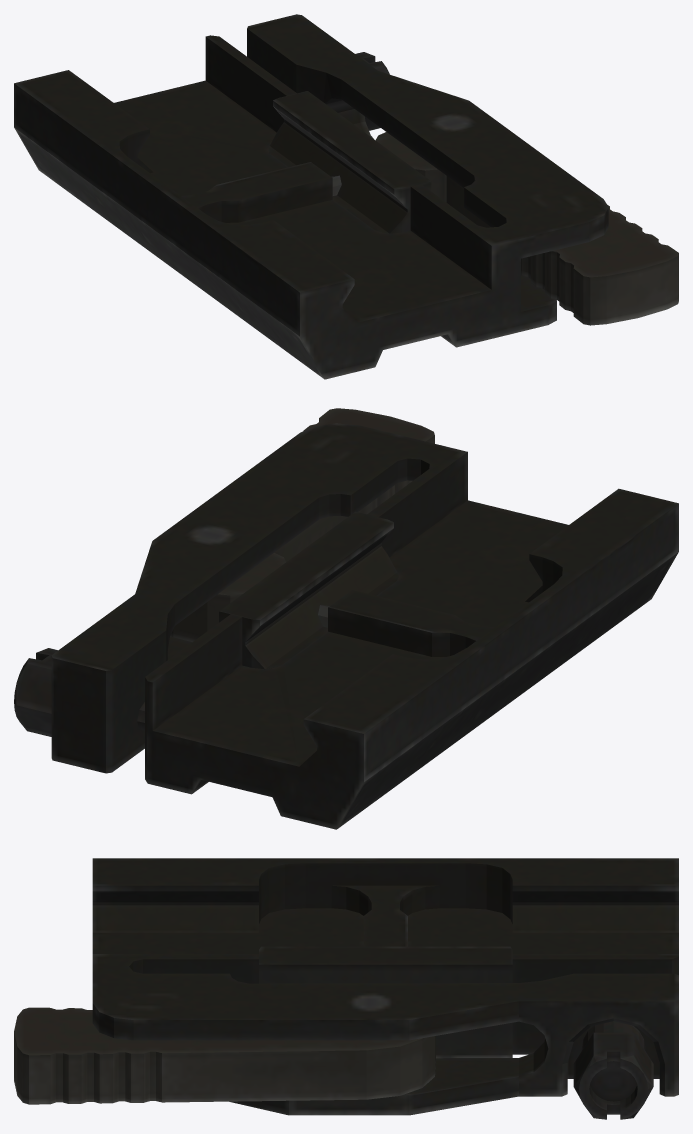
The picture shows the model from 3 angles, top to bottom: view 1: azimuth 30°, elevation 25°; view 2: azimuth 150°, elevation 25°; view 3: azimuth 270°, elevation 25°; orthographic projection. The views are drawn at different scales.
Parts seen in each view (by area): view 1: TW_5c7d55f52e221644f31bff6a_PZ_Import; view 2: TW_5c7d55f52e221644f31bff6a_PZ_Import; view 3: TW_5c7d55f52e221644f31bff6a_PZ_Import.
Part boxes in pixels (x1,y1,x2,y2): TW_5c7d55f52e221644f31bff6a_PZ_Import: (14,14,678,379); TW_5c7d55f52e221644f31bff6a_PZ_Import: (14,408,678,829); TW_5c7d55f52e221644f31bff6a_PZ_Import: (14,858,678,1119).
Size of the model in its own units: 0.0284 by 0.0459 by 0.00731.
1 material, 1 textured.
